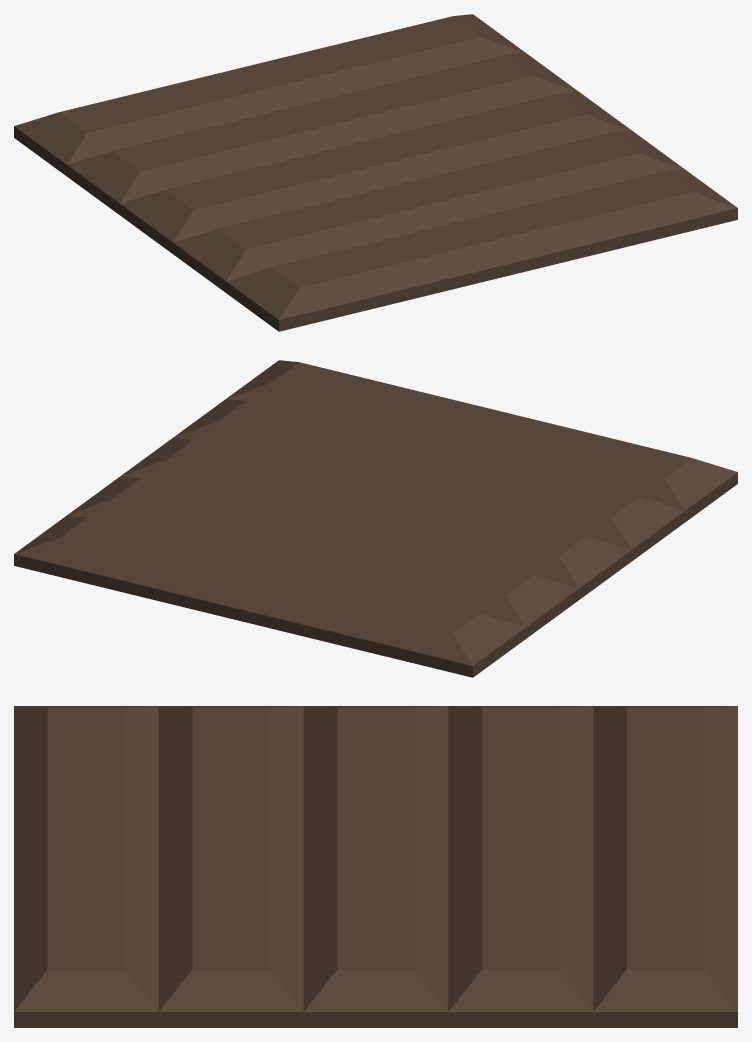
File: farm_mat.fbx
The picture shows the model from 3 angles, top to bottom: view 1: azimuth 30°, elevation 25°; view 2: azimuth 150°, elevation 25°; view 3: azimuth 270°, elevation 25°; orthographic projection. The views are drawn at different scales.
Parts seen in each view (by area): view 1: farm_mat; view 2: farm_mat; view 3: farm_mat.
Boxes of the visible parts, x1=… form: farm_mat: x1=14, y1=14, x2=737, y2=331; farm_mat: x1=14, y1=360, x2=737, y2=677; farm_mat: x1=14, y1=706, x2=737, y2=1027.
Bounding box in the file's own units: 234 × 12.99 × 234.
